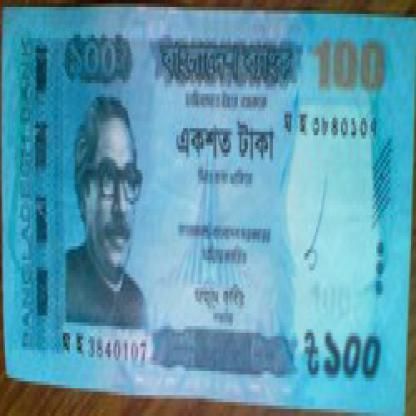one hundred taka: (303, 31, 394, 108), (316, 298, 391, 388), (61, 28, 136, 83)
